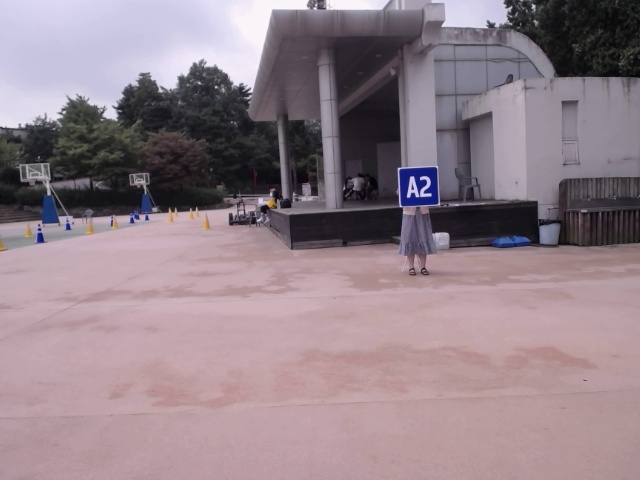delivery_a2: (398, 167, 439, 207)
